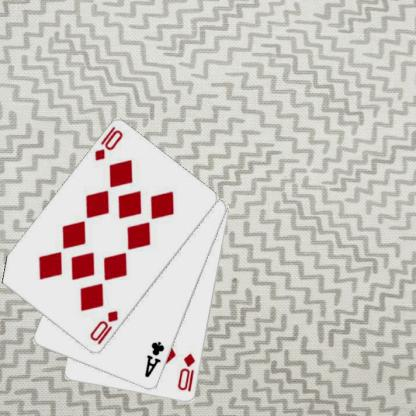10D: (87, 308, 119, 346), (92, 124, 124, 162), (176, 351, 197, 393)
AC: (142, 340, 166, 379)
